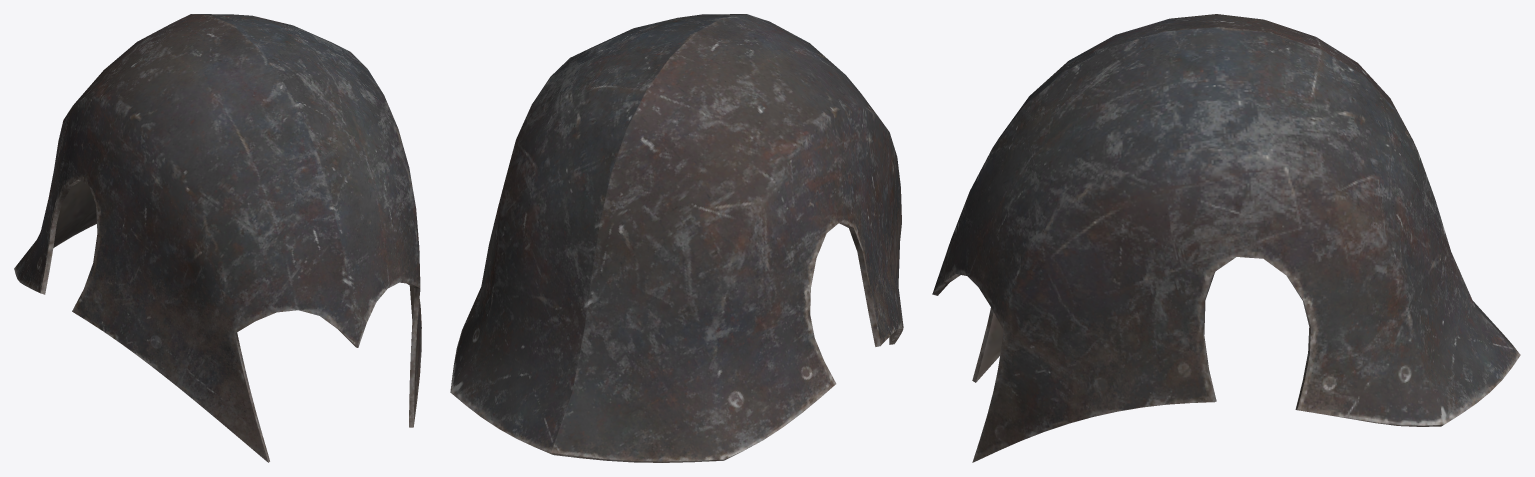
File: sk_dg_uruk_helmet_light_a.fbx
3 renders of one model, left to right at view 1: azimuth 30°, elevation 25°; view 2: azimuth 150°, elevation 25°; view 3: azimuth 270°, elevation 25°, orthographic. The views are drawn at different scales.
Parts seen in each view (by area): view 1: sk_dg_uruk_helmet_light_a; view 2: sk_dg_uruk_helmet_light_a; view 3: sk_dg_uruk_helmet_light_a.
Boxes of the visible parts, bbox=[...] form: sk_dg_uruk_helmet_light_a: bbox=[14, 14, 421, 462]; sk_dg_uruk_helmet_light_a: bbox=[450, 14, 903, 462]; sk_dg_uruk_helmet_light_a: bbox=[932, 14, 1520, 462].
Size of the model in its own units: 0.2303 by 0.3074 by 0.2277.
1 material, 1 textured.
